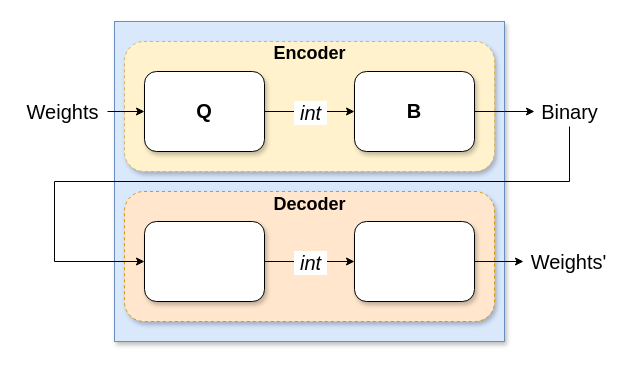
The diagram is 630 pixels wide and 366 high, and some of its shapes have lost their labels. Here are the shapes that lost their labels. From the top down, the centre of each, then its label:
(205,262): B -1
(415,262): Q -1
